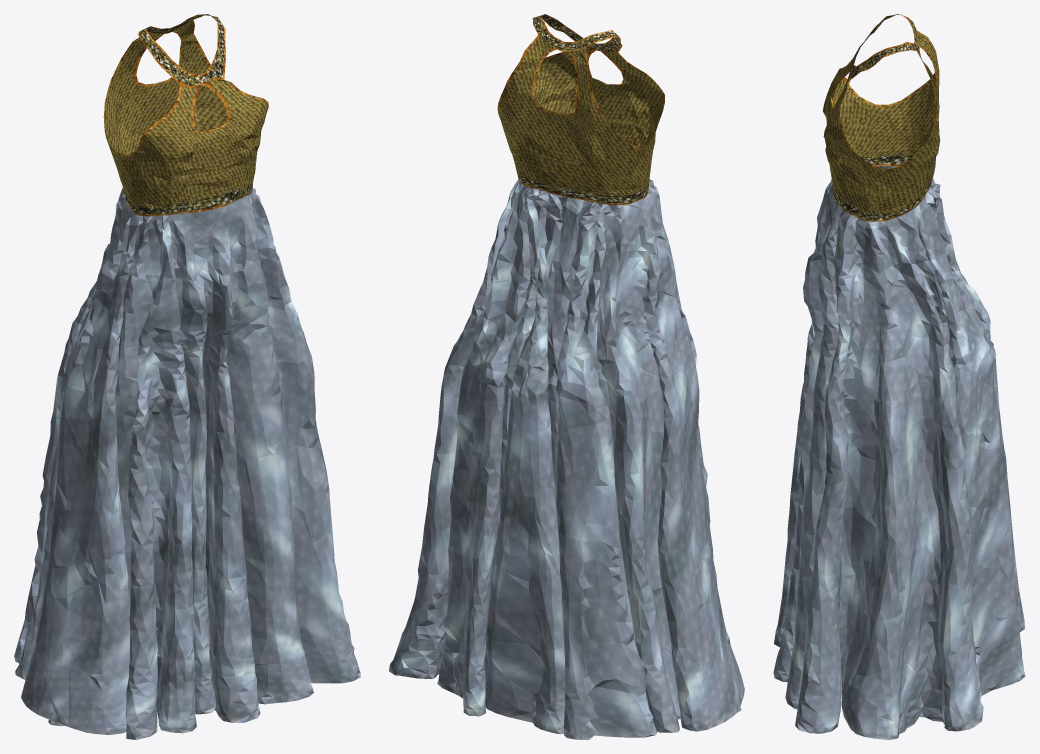
Rendered from mhw_elvs_goddess_dress4.glb.
The picture shows the model from 3 angles, left to right: view 1: azimuth 30°, elevation 25°; view 2: azimuth 150°, elevation 25°; view 3: azimuth 270°, elevation 25°; orthographic projection. The views are drawn at different scales.
Parts seen in each view (by area): view 1: mhw_elvs_goddess_dress4; view 2: mhw_elvs_goddess_dress4; view 3: mhw_elvs_goddess_dress4.
Boxes of the visible parts, <box> form: mhw_elvs_goddess_dress4: <box>14,14,360,739</box>; mhw_elvs_goddess_dress4: <box>389,14,744,739</box>; mhw_elvs_goddess_dress4: <box>773,14,1025,739</box>.
Size of the model in its own units: 0.7886 by 1.59 by 0.5616.
Materials: 1 (1 with a texture image).
